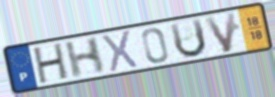0: (140, 27, 170, 65)
H: (63, 34, 107, 80), (32, 41, 70, 86)
U: (168, 16, 209, 60)
V: (202, 9, 238, 55)
X: (100, 28, 140, 74)
